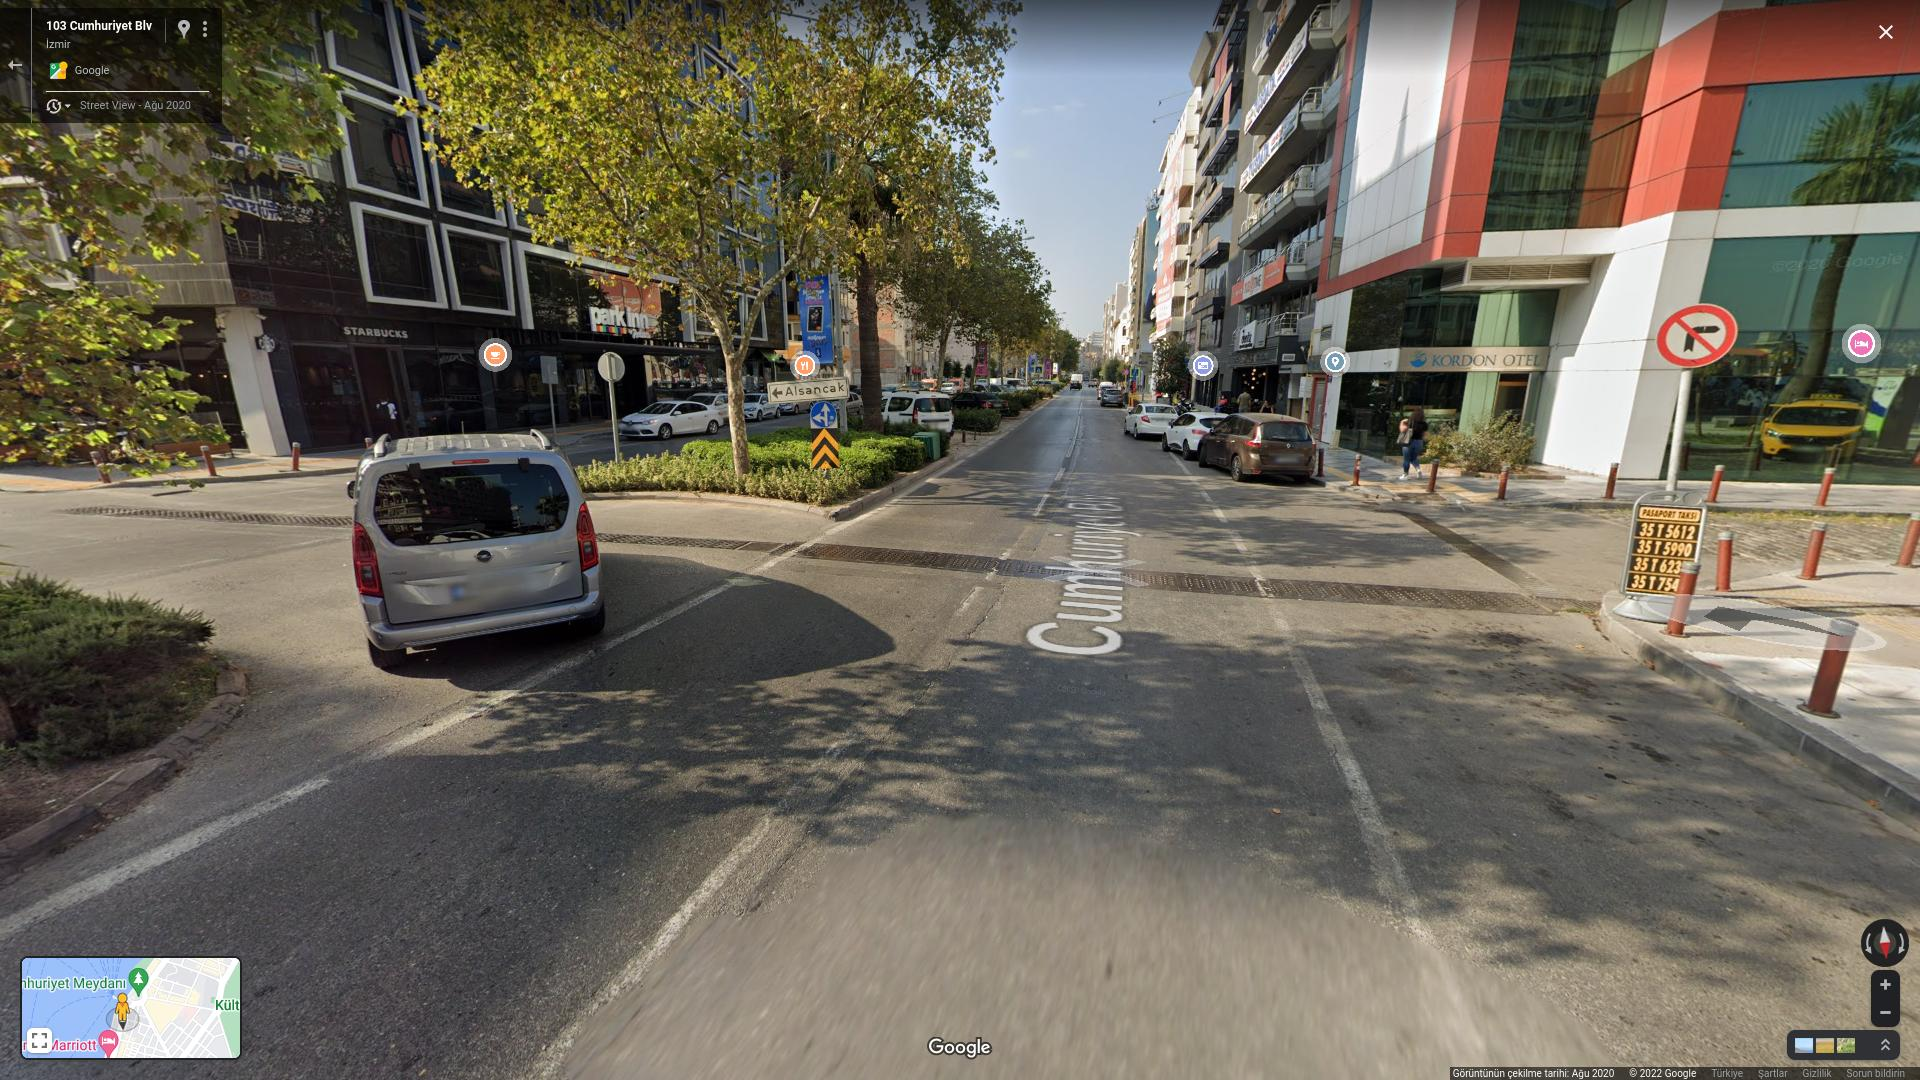rightturnsareforbidden: (1658, 303, 1737, 363)
